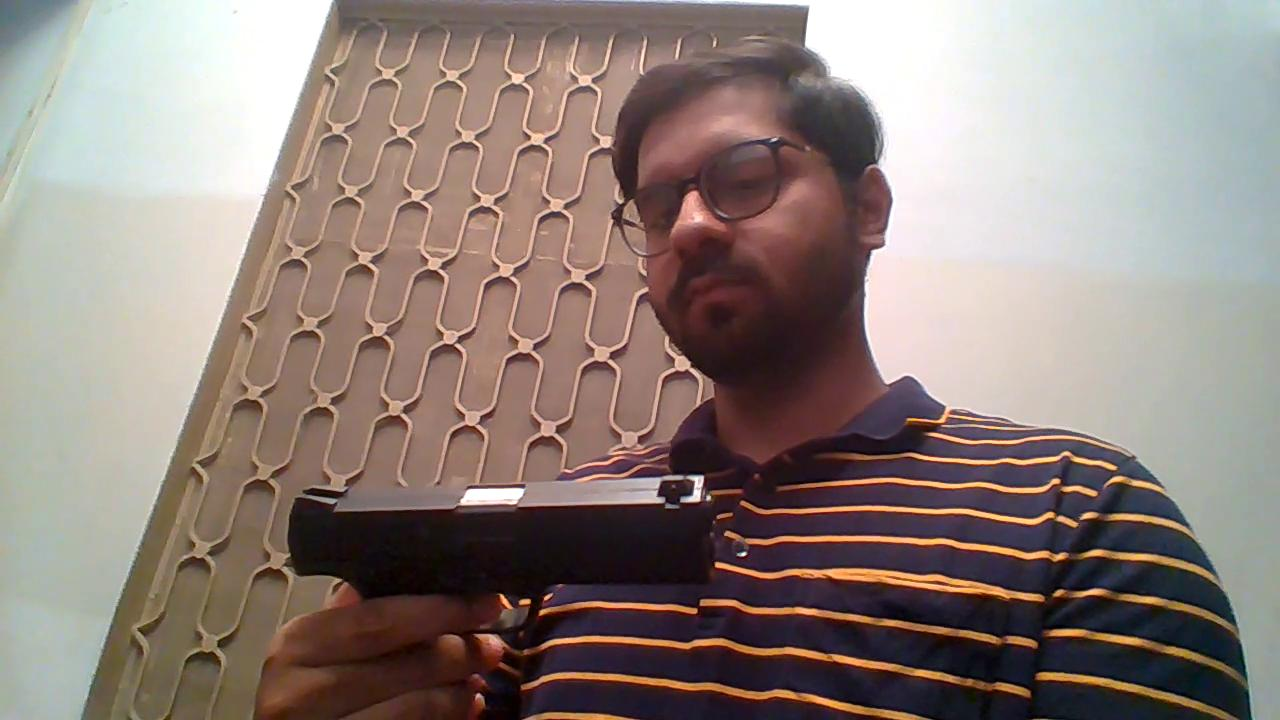criminal: (248, 33, 1254, 720)
weapon: (282, 470, 716, 642)
